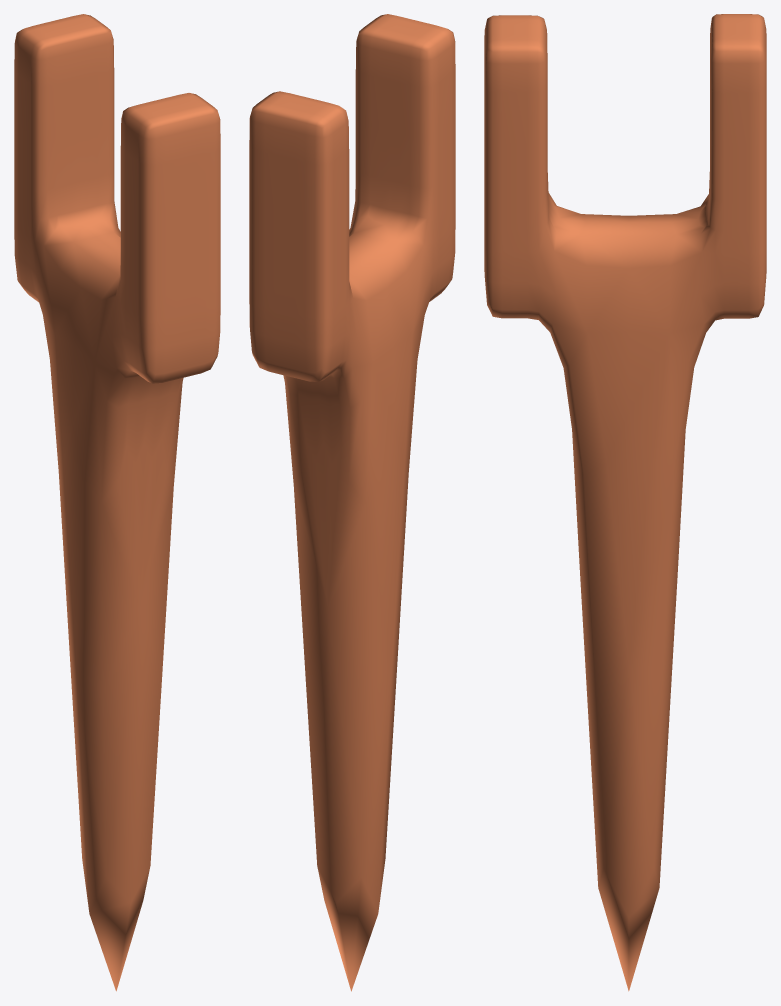
File: prak.fbx
The picture shows the model from 3 angles, left to right: view 1: azimuth 30°, elevation 25°; view 2: azimuth 150°, elevation 25°; view 3: azimuth 270°, elevation 25°; orthographic projection. The views are drawn at different scales.
Parts seen in each view (by area): view 1: Kocka.010; view 2: Kocka.010; view 3: Kocka.010.
Boxes of the visible parts, <box> form: Kocka.010: <box>14,14,220,991</box>; Kocka.010: <box>249,14,455,991</box>; Kocka.010: <box>484,14,766,991</box>.
Bounding box in the file's own units: 0.1408 × 0.3799 × 1.43.
